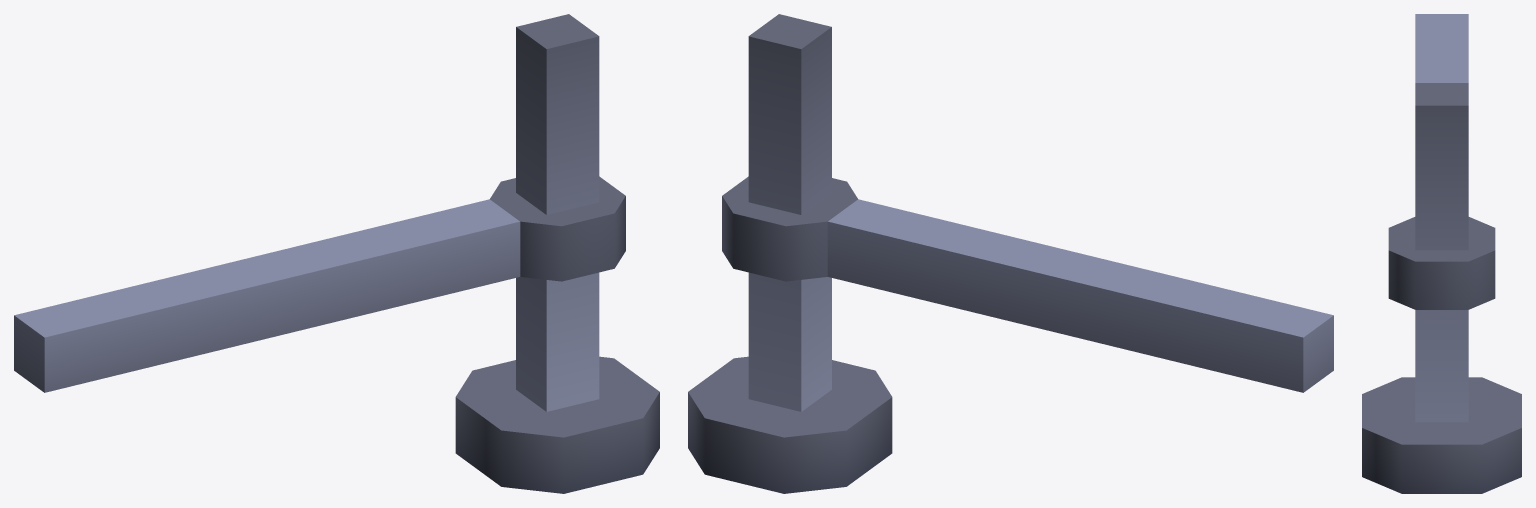
Rendered from fence.glb.
3 views of the same model, side by side, from view 1: azimuth 30°, elevation 25°; view 2: azimuth 150°, elevation 25°; view 3: azimuth 270°, elevation 25° (orthographic). The views are drawn at different scales.
Parts seen in each view (by area): view 1: fence; view 2: fence; view 3: fence.
Part boxes in pixels (<box>): fence: <box>14,14,659,493</box>; fence: <box>688,14,1333,493</box>; fence: <box>1362,14,1521,493</box>.
Bounding box in the file's own units: 0.575 × 0.379 × 0.15.
